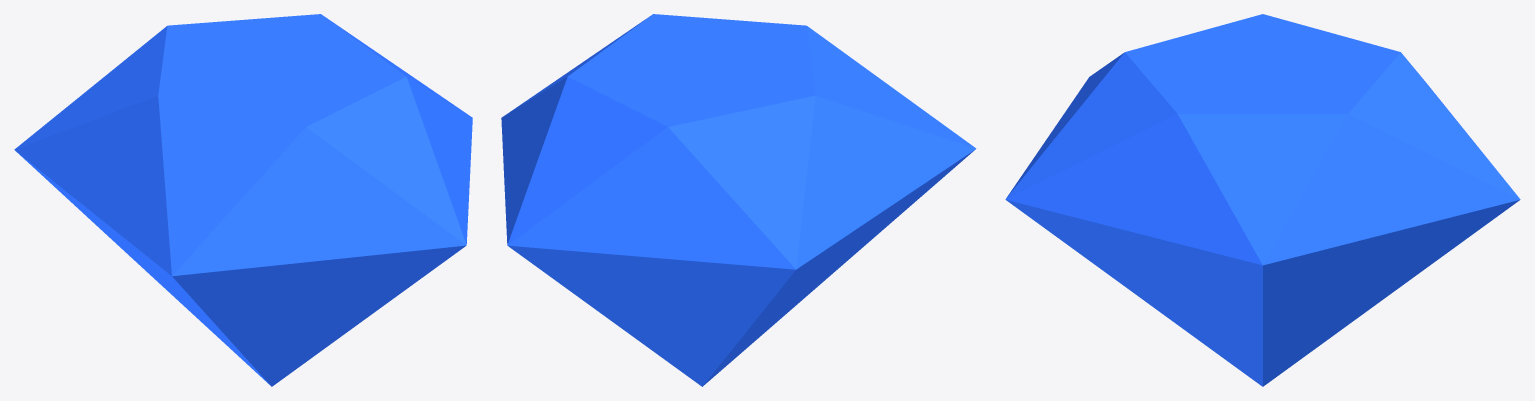
Rendered from gem_sapphire_chipped.glb.
3 renders of one model, left to right at view 1: azimuth 30°, elevation 25°; view 2: azimuth 150°, elevation 25°; view 3: azimuth 270°, elevation 25°, orthographic.
Visible parts, largest first — view 1: gem_sapphire_1; view 2: gem_sapphire_1; view 3: gem_sapphire_1.
Boxes of the visible parts, x1,y1,x2,y2 form: gem_sapphire_1: [14, 14, 472, 386]; gem_sapphire_1: [501, 14, 976, 386]; gem_sapphire_1: [1005, 14, 1520, 386].
Size of the model in its own units: 0.0553 by 0.0435 by 0.0639.
